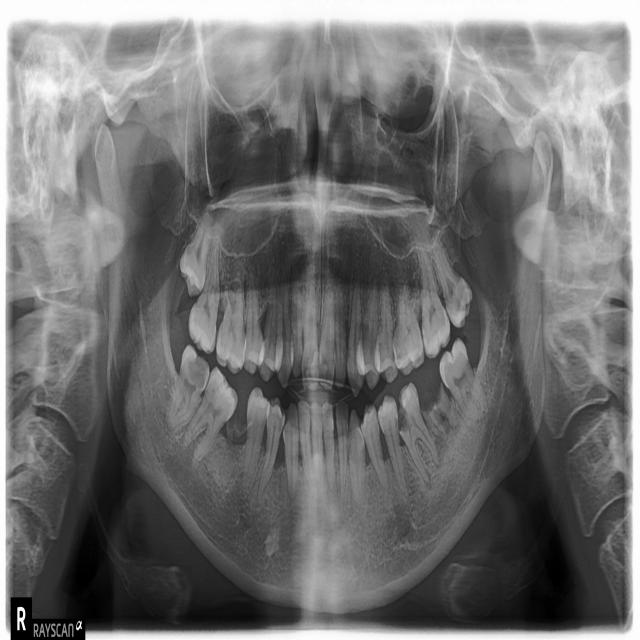mandibula: (90, 123, 554, 615)
